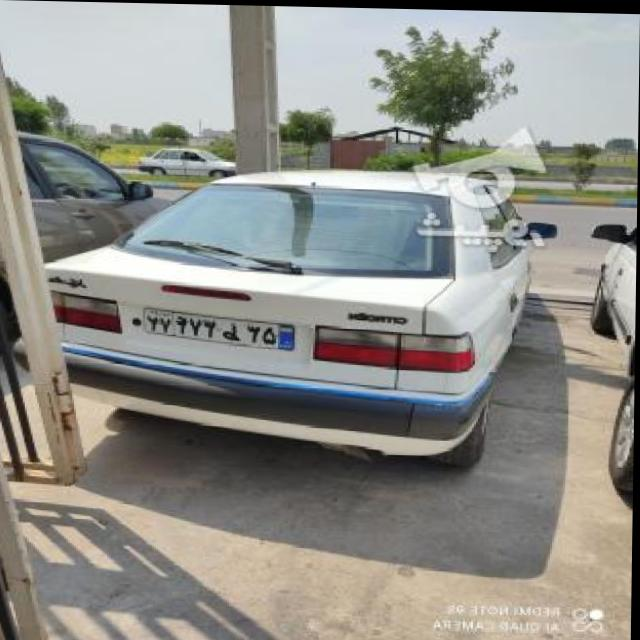licence: (146, 304, 302, 349)
